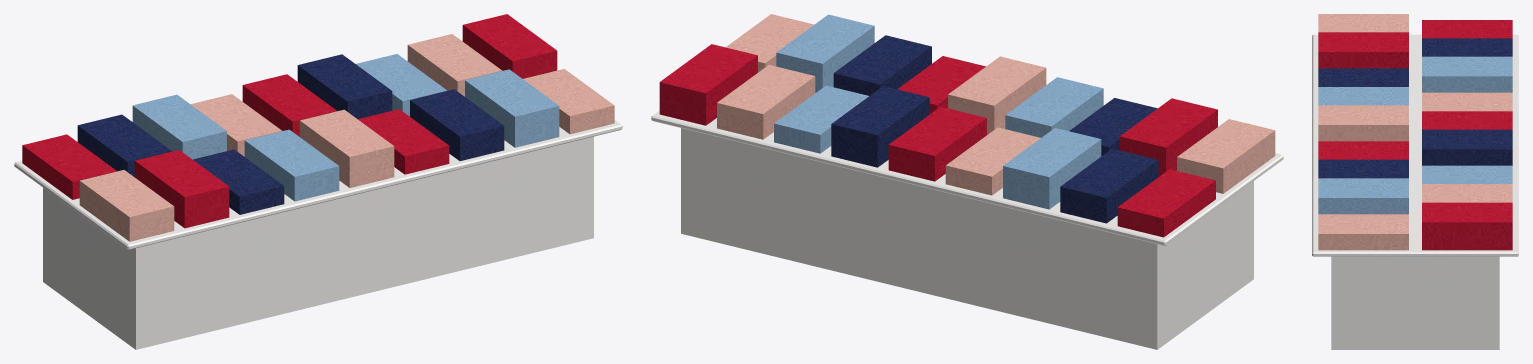
3 views of the same model, side by side, from view 1: azimuth 30°, elevation 25°; view 2: azimuth 150°, elevation 25°; view 3: azimuth 270°, elevation 25° (orthographic). The views are drawn at different scales.
Visible parts, largest first — view 1: Decor_white_clothes_table_long; view 2: Decor_white_clothes_table_long; view 3: Decor_white_clothes_table_long.
Part boxes in pixels (x1=…): Decor_white_clothes_table_long: x1=14, y1=14, x2=622, y2=349; Decor_white_clothes_table_long: x1=651, y1=14, x2=1283, y2=349; Decor_white_clothes_table_long: x1=1312, y1=14, x2=1518, y2=349.
Size of the model in its own units: 4 by 1.14 by 1.6.
5 materials, 5 textured.
